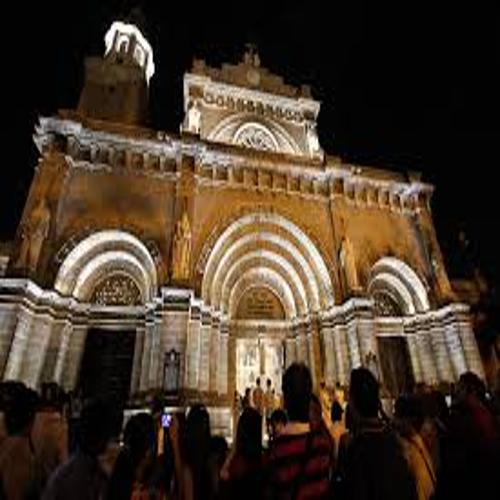Manila Cathedral Church: (17, 14, 480, 405)
